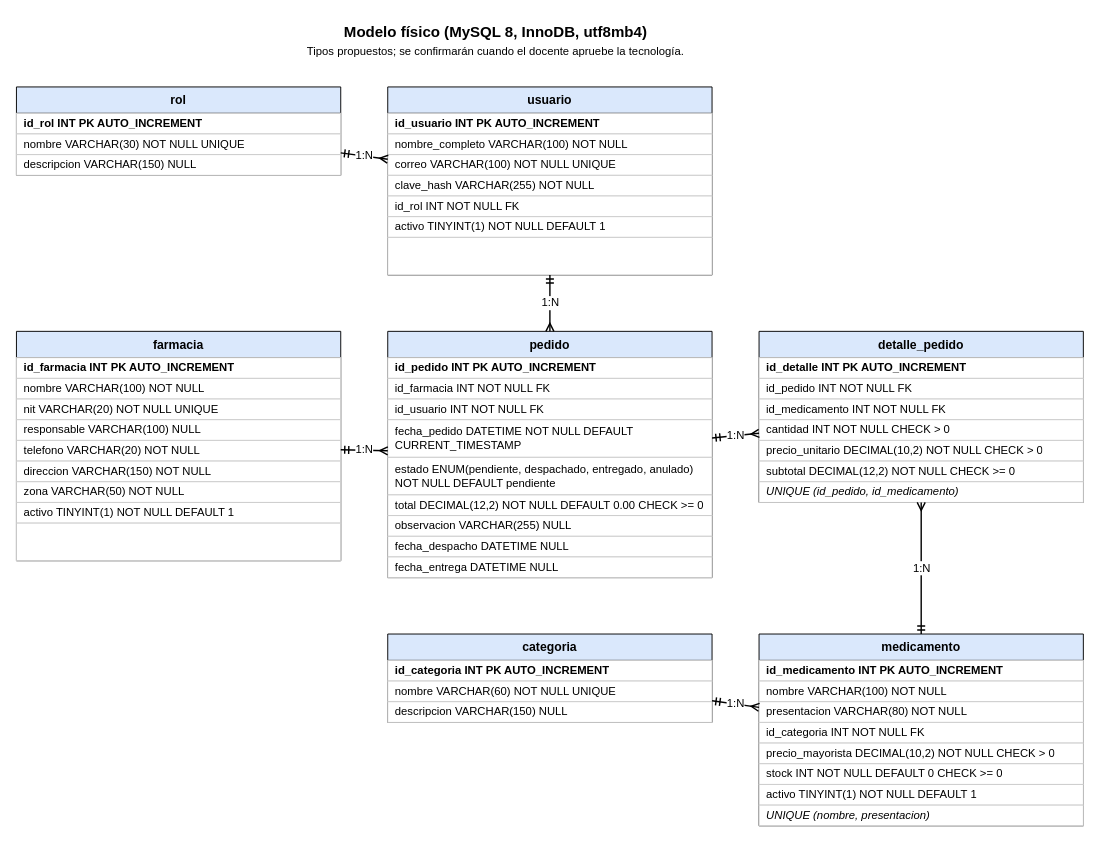
Some shapes in this 1100 by 842 pixel diagram are drawn without their labels. Each missing label, with the centre of its shape:
"fecha_creacion DATETIME NOT NULL DEFAULT CURRENT_TIMESTAMP" goes at point (549, 255).
"fecha_registro DATETIME NOT NULL DEFAULT CURRENT_TIMESTAMP" goes at point (178, 541).
